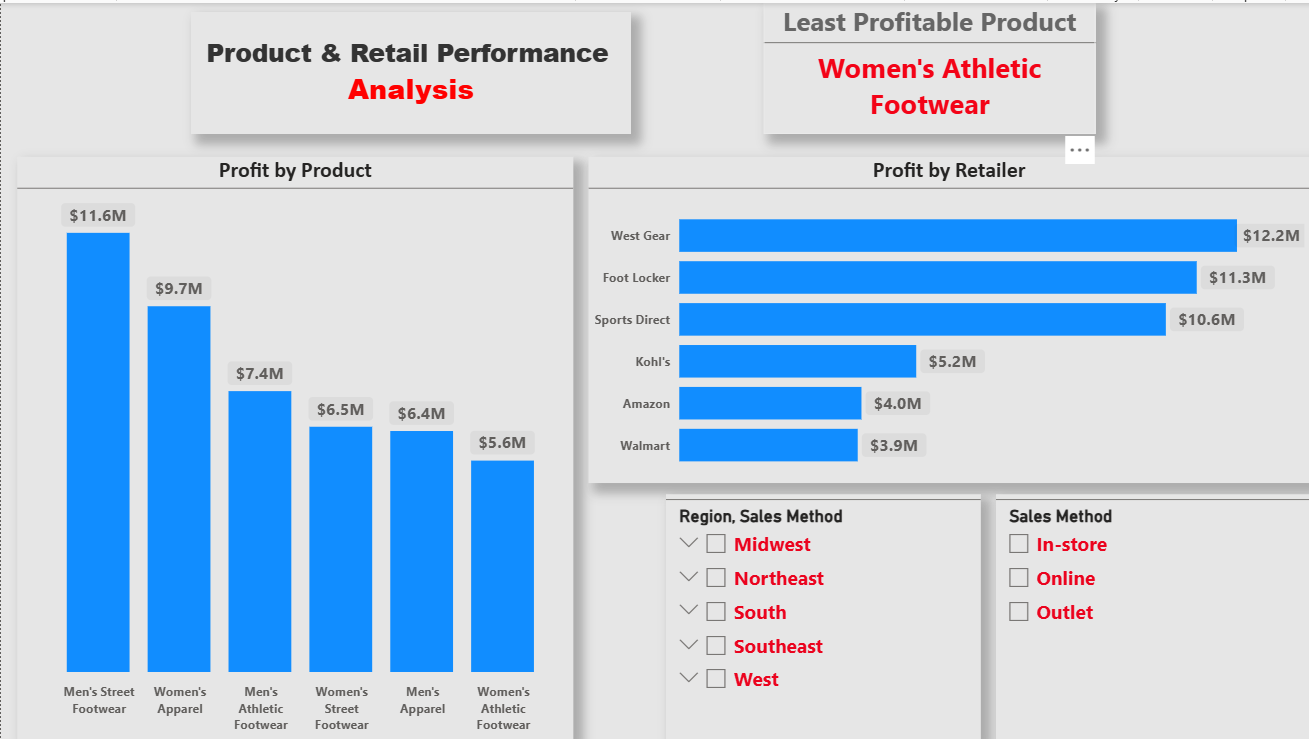

What the dashboard file says about the page in this screenshot:
{"tool":"powerbi","page":{"name":"product analysis","canvas":[1280,720],"ordinal":2},"visuals":[{"type":"textbox","box":[176.1,13.5,430.4,107.6],"z":0},{"type":"clusteredColumnChart","title":"Profit by Product","fields":{"Category":["Sheet4.Product"],"Y":["Sheet4.Total Profit"]},"box":[0,150.4,544.2,319.2],"z":1000},{"type":"clusteredBarChart","title":"Profit by Retailer","fields":{"Category":["Sheet4.Retailer"],"Y":["Sum(Sheet4.Profit)"]},"box":[574.7,150.4,705.6,319.2],"z":2000},{"type":"textbox","title":"Least Profitable Product","box":[667.7,0,325.3,124.7],"z":3000},{"type":"slicer","fields":{"Values":["Sheet4.Region","Sheet4.Sales Method"]},"box":[574.7,480.6,418.2,239.7],"z":4000},{"type":"slicer","fields":{"Values":["Sheet4.Sales Method"]},"box":[1005.2,480.6,275.1,239.7],"z":4001}]}

Visuals, with their boxes in screenshot pixels (x1, y1, x2, y2), scaled from the page's 1280x720 canvas onto the 1309x739 screenshot:
textbox: crop(180, 14, 620, 124)
"Profit by Product" clusteredColumnChart: crop(0, 154, 557, 482)
"Profit by Retailer" clusteredBarChart: crop(588, 154, 1308, 482)
"Least Profitable Product" textbox: crop(683, 0, 1015, 128)
slicer - Sheet4.Region x Sheet4.Sales Method: crop(588, 493, 1015, 738)
slicer - Sheet4.Sales Method: crop(1028, 493, 1308, 738)
